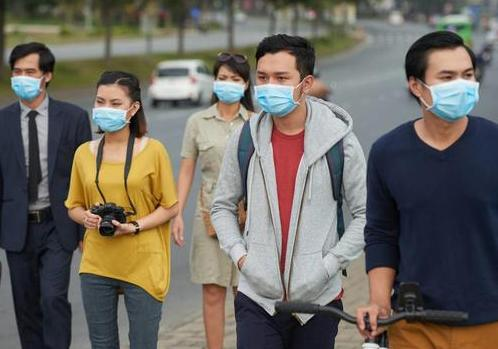mask: (422, 45, 485, 127), (254, 45, 310, 116), (92, 77, 136, 131), (8, 51, 47, 99), (214, 53, 248, 106)
